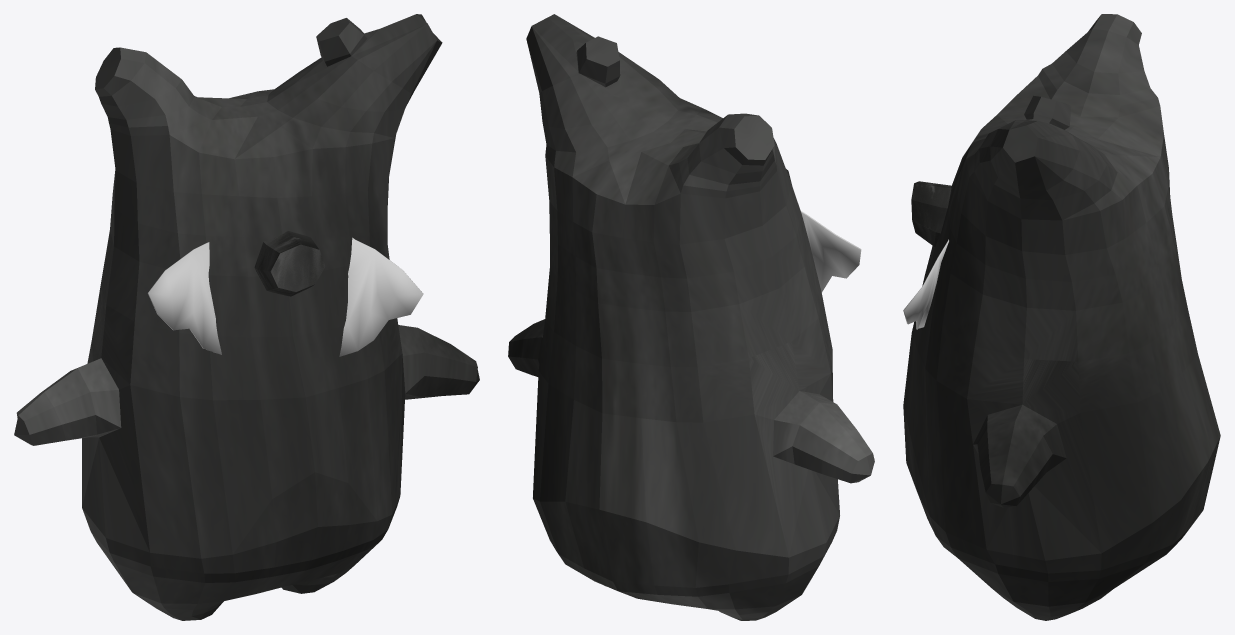
File: frame_0128.obj
The picture shows the model from 3 angles, left to right: view 1: azimuth 30°, elevation 25°; view 2: azimuth 150°, elevation 25°; view 3: azimuth 270°, elevation 25°; orthographic projection. The views are drawn at different scales.
Visible parts, largest first — view 1: korok, leaf, nose; view 2: korok, leaf; view 3: korok, nose, leaf.
Part boxes in pixels (x1,y1,x2,y2): korok: (14, 14, 479, 620); leaf: (147, 237, 423, 356); nose: (254, 230, 325, 296); korok: (508, 14, 874, 620); leaf: (801, 211, 861, 292); korok: (903, 14, 1220, 620); nose: (911, 181, 951, 246); leaf: (903, 239, 948, 329).
Size of the model in its own units: 1.71 by 2.19 by 1.16.
